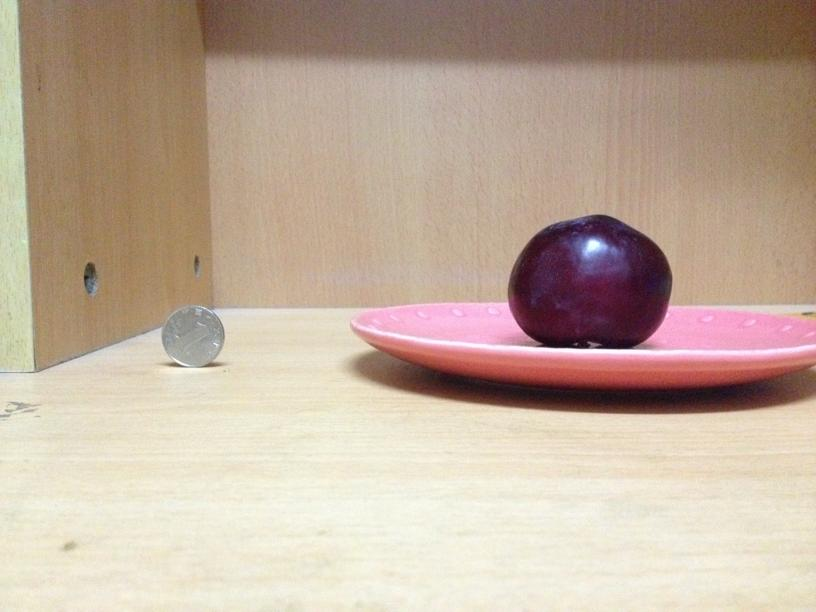coin: (158, 308, 224, 368)
plum: (508, 215, 670, 347)
